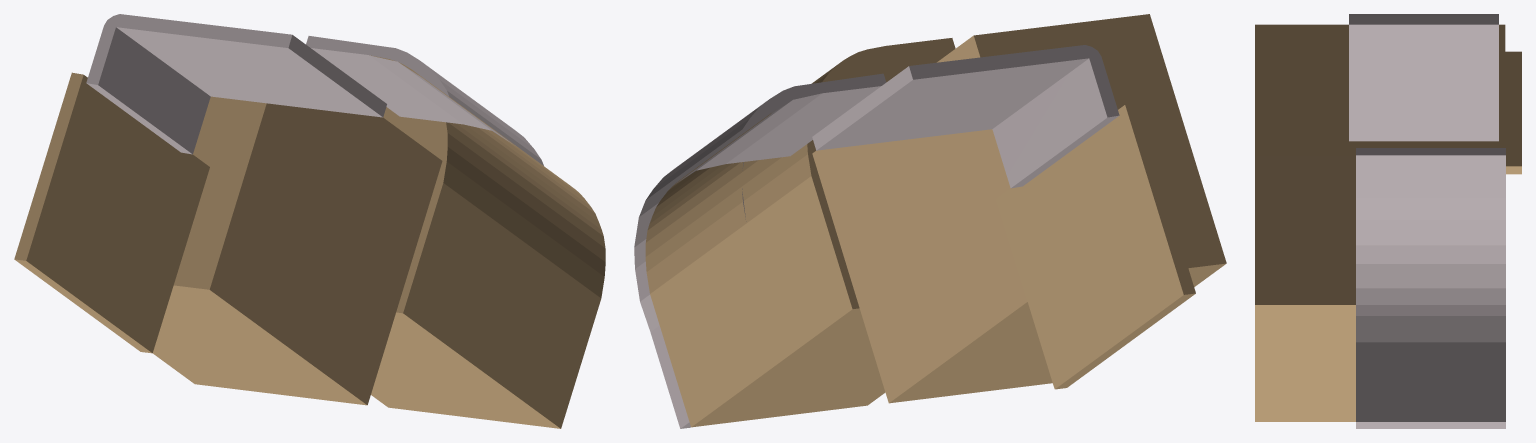
The picture shows the model from 3 angles, left to right: view 1: azimuth 30°, elevation 25°; view 2: azimuth 150°, elevation 25°; view 3: azimuth 270°, elevation 25°; orthographic projection. The views are drawn at different scales.
Parts seen in each view (by area): view 1: 0_2_1_3_0_0_0_0; view 2: 0_2_1_3_0_0_0_0; view 3: 0_2_1_3_0_0_0_0.
Boxes of the visible parts, x1,y1,x2,y2 form: 0_2_1_3_0_0_0_0: (14, 14, 605, 428); 0_2_1_3_0_0_0_0: (634, 14, 1226, 428); 0_2_1_3_0_0_0_0: (1255, 14, 1521, 428).
Bounding box in the file's own units: 47.55 × 39.39 × 31.99.
